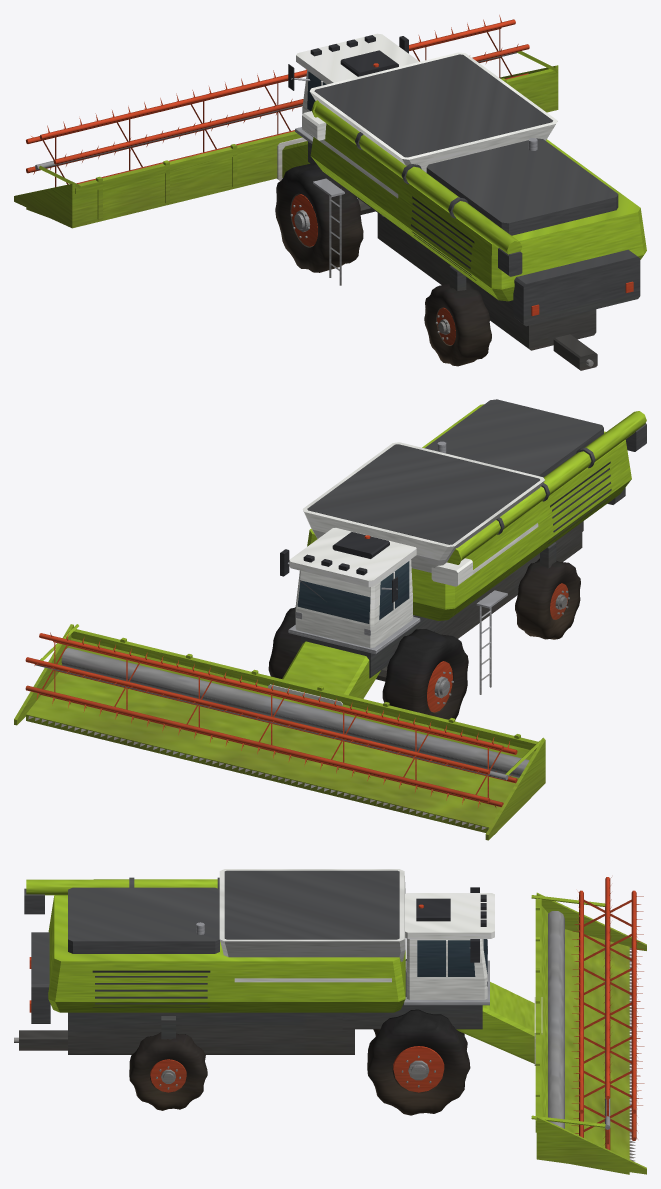
Rendered from Combine_Large.glb.
3 renders of one model, top to bottom at view 1: azimuth 30°, elevation 25°; view 2: azimuth 150°, elevation 25°; view 3: azimuth 270°, elevation 25°, orthographic. The views are drawn at different scales.
Visible parts, largest first — view 1: Combine_Large, Wheel_FL, Reel, Unload_Auger, Wheel_RL; view 2: Combine_Large, Reel, Wheel_FL, Wheel_RL, Unload_Auger, Wheel_FR; view 3: Combine_Large, Wheel_FR, Reel, Wheel_RR, Unload_Auger.
Boxes of the visible parts, x1,y1,x2,y2 form: Combine_Large: (14,33,646,370); Wheel_FL: (275,162,363,272); Reel: (26,15,529,187); Unload_Auger: (311,100,522,276); Wheel_RL: (424,282,491,366); Combine_Large: (14,399,631,840); Reel: (25,632,517,807); Wheel_FL: (382,629,468,719); Wheel_RL: (515,558,580,639); Unload_Auger: (447,411,646,564); Wheel_FR: (268,607,300,678); Combine_Large: (19,869,646,1174); Wheel_FR: (367,1009,470,1115); Reel: (571,877,644,1149); Wheel_RR: (129,1032,207,1110); Unload_Auger: (24,877,219,914).
Bounding box in the file's own units: 10.84 × 3.99 × 12.9.
1 material, 1 textured.
